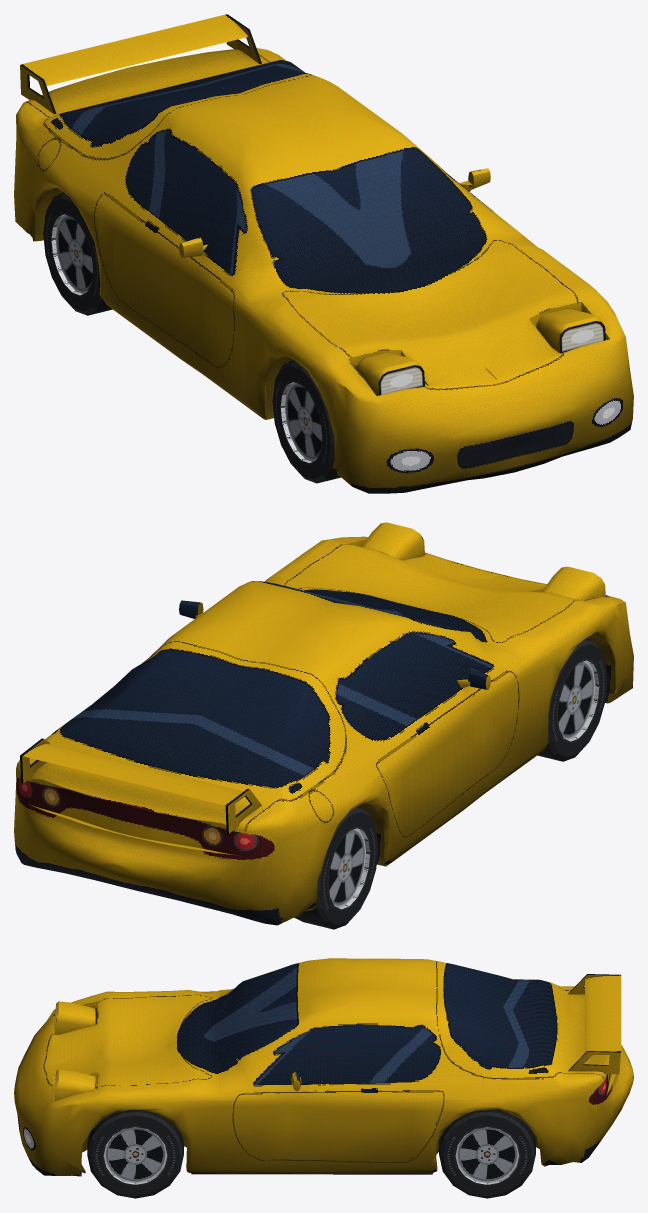
File: car_rx7.glb
3 renders of one model, top to bottom at view 1: azimuth 30°, elevation 25°; view 2: azimuth 150°, elevation 25°; view 3: azimuth 270°, elevation 25°, orthographic. The views are drawn at different scales.
Parts seen in each view (by area): view 1: RX7_Body, RX7_Wheel_FR, RX7_Wheel_RR; view 2: RX7_Body, RX7_Wheel_RR, RX7_Wheel_FR; view 3: RX7_Body, RX7_Wheel_RL, RX7_Wheel_FL.
Part boxes in pixels (left/top/right/bottom): RX7_Body: left=14, top=14, right=633, bottom=493; RX7_Wheel_FR: left=272, top=360, right=340, bottom=483; RX7_Wheel_RR: left=43, top=192, right=112, bottom=315; RX7_Body: left=14, top=522, right=633, bottom=925; RX7_Wheel_RR: left=294, top=806, right=378, bottom=929; RX7_Wheel_FR: left=537, top=638, right=607, bottom=761; RX7_Body: left=14, top=958, right=633, bottom=1176; RX7_Wheel_RL: left=439, top=1109, right=535, bottom=1198; RX7_Wheel_FL: left=87, top=1109, right=183, bottom=1198.
Size of the model in its own units: 1.88 by 1.27 by 4.25.
Materials: 3 (2 with a texture image).
